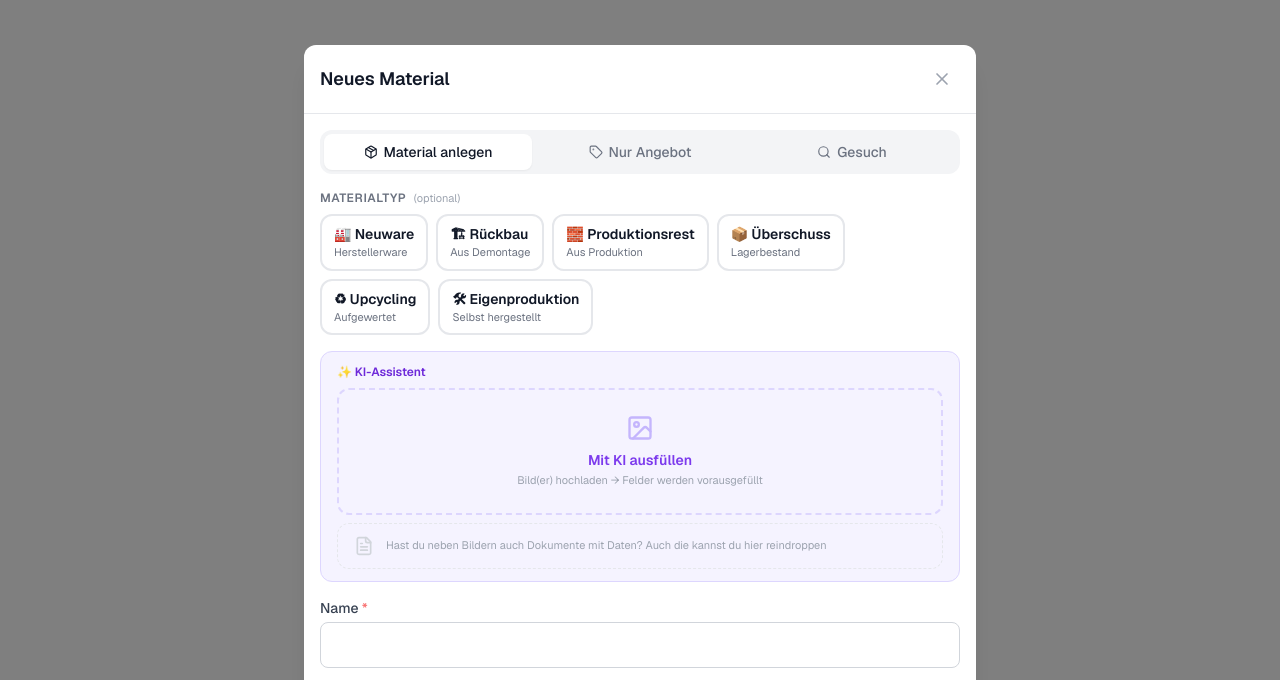
Test: MaterialForm — required-field validation on submit › shows a visible error for a missing location once the name is filled in
The image size is (1280, 680).
Type "Recyceltes Testholz" into the field named "name".
click(640, 644); type("Recyceltes Testholz")  # box [320, 622, 960, 668]
(page scrolled)
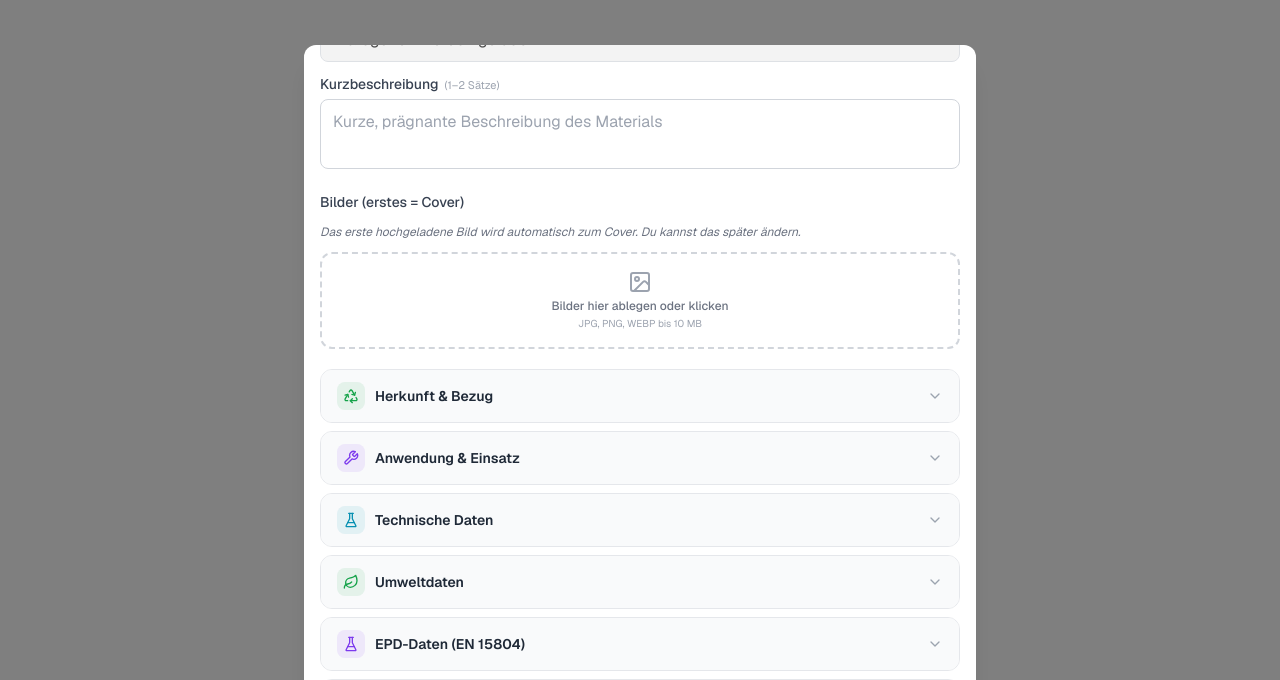
Submit the form
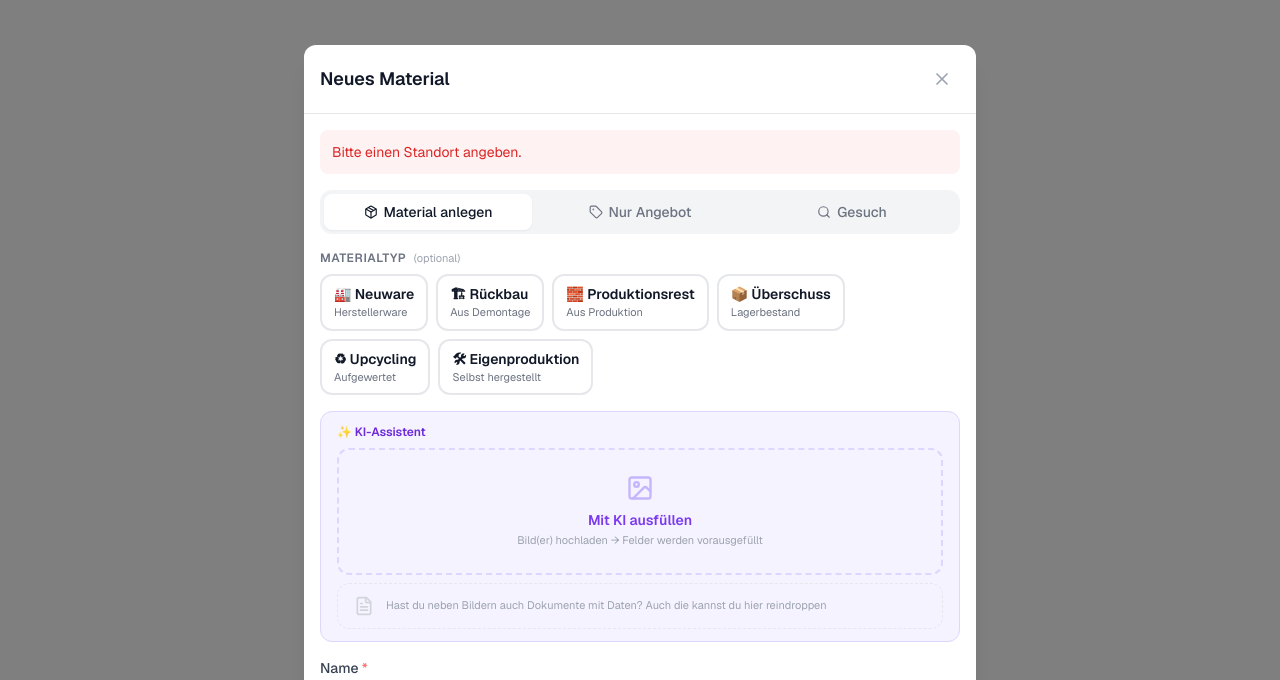
Result: the text "Bitte einen Standort angeben." is shown at [320, 130, 960, 174]
